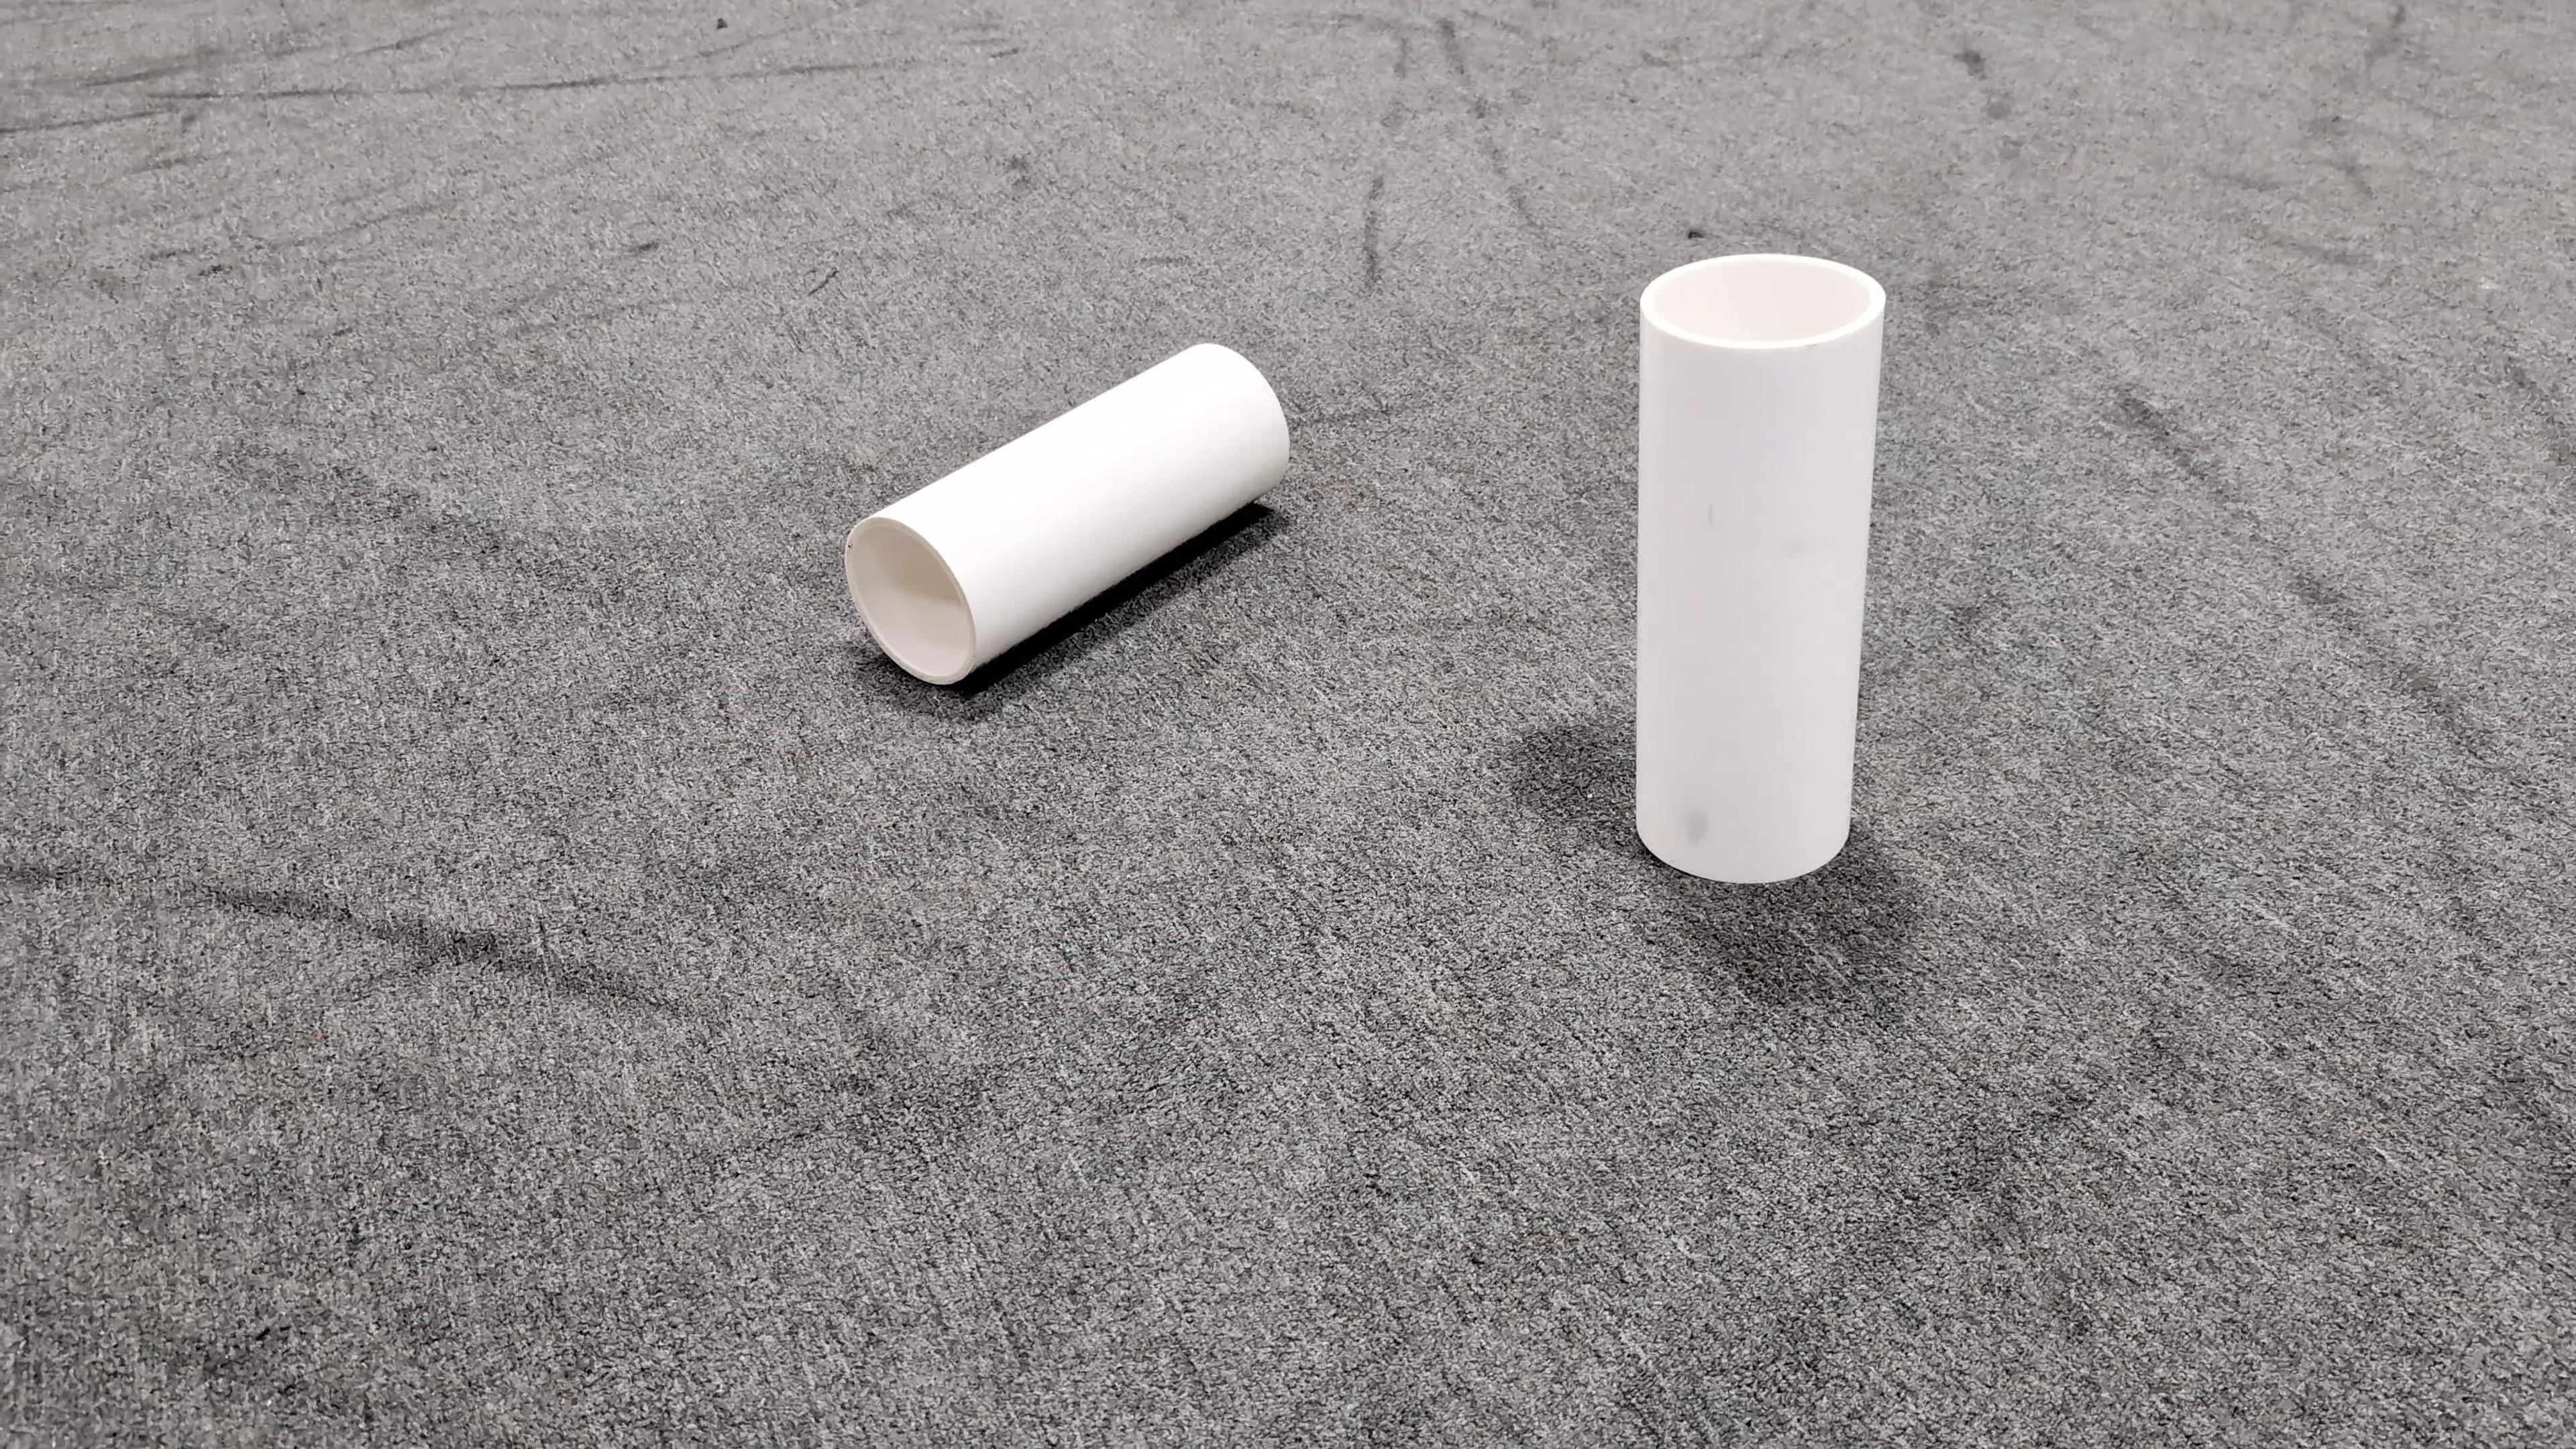coral: (1624, 251, 1891, 883), (844, 336, 1292, 686)
